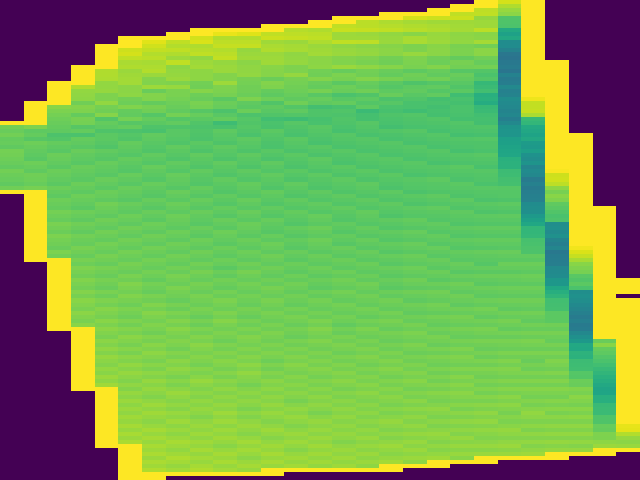cube: (6, 2, 640, 480)
